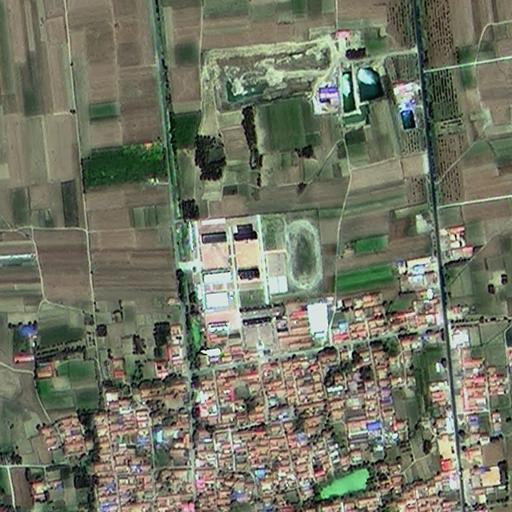school: (194, 209, 326, 308)
